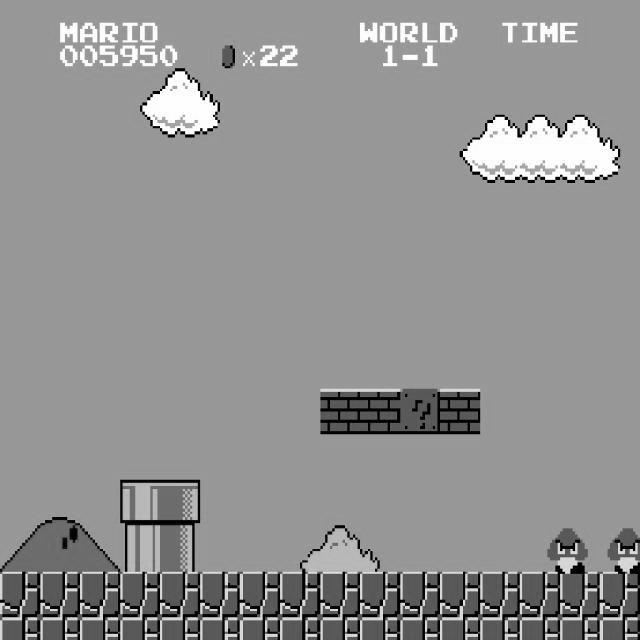1- brick_block: (320, 388, 360, 434), (360, 388, 400, 434), (440, 388, 480, 434)
13- mystery_block: (400, 388, 440, 434)
14- pipe: (120, 526, 160, 572), (160, 526, 200, 572)
15- pipe_head: (120, 480, 160, 526), (160, 480, 200, 526)
17- undestructible_block: (599, 571, 640, 617), (0, 571, 40, 617), (40, 572, 80, 618), (80, 572, 120, 618), (120, 572, 160, 618), (160, 572, 200, 618), (200, 572, 240, 618), (240, 572, 280, 618), (280, 572, 320, 618), (320, 572, 360, 618), (360, 572, 400, 618), (400, 572, 440, 618), (440, 572, 480, 618), (480, 572, 520, 618), (520, 572, 560, 618), (560, 572, 600, 618), (40, 617, 80, 640), (80, 617, 120, 640), (120, 617, 160, 640), (160, 617, 200, 640), (200, 617, 240, 640), (240, 617, 280, 640), (280, 617, 320, 640), (320, 617, 360, 640), (360, 617, 400, 640), (400, 617, 440, 640), (440, 617, 480, 640), (480, 617, 520, 640), (520, 617, 560, 640), (560, 617, 600, 640), (599, 617, 640, 639), (0, 617, 40, 639)
8- goomba: (545, 526, 588, 574), (605, 526, 640, 574)
